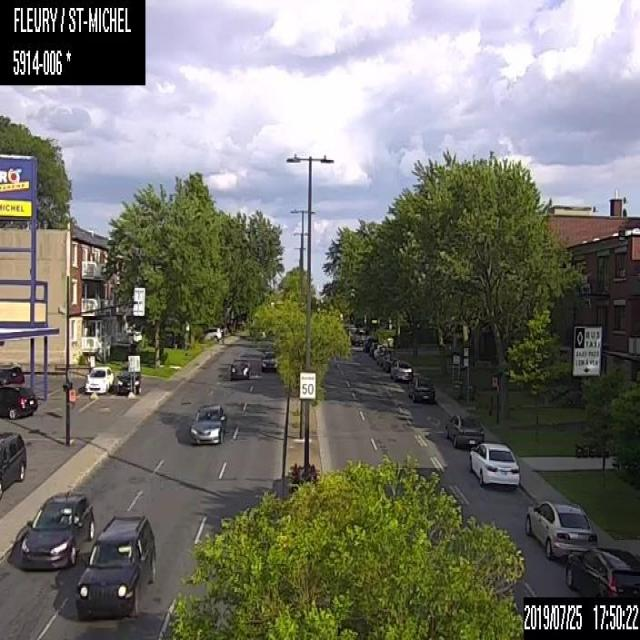vehicle: (74, 514, 156, 617), (21, 492, 94, 566), (522, 497, 598, 560), (564, 545, 639, 596), (469, 438, 520, 489), (0, 430, 27, 500), (442, 411, 486, 448), (188, 403, 226, 444), (0, 382, 39, 419), (83, 362, 113, 395), (407, 375, 438, 405), (115, 366, 140, 396), (0, 361, 24, 386), (389, 359, 413, 382), (229, 356, 250, 379), (259, 348, 276, 371), (382, 352, 400, 371), (376, 346, 394, 365), (199, 325, 221, 340), (362, 334, 378, 352), (373, 344, 384, 359), (369, 341, 379, 356)
